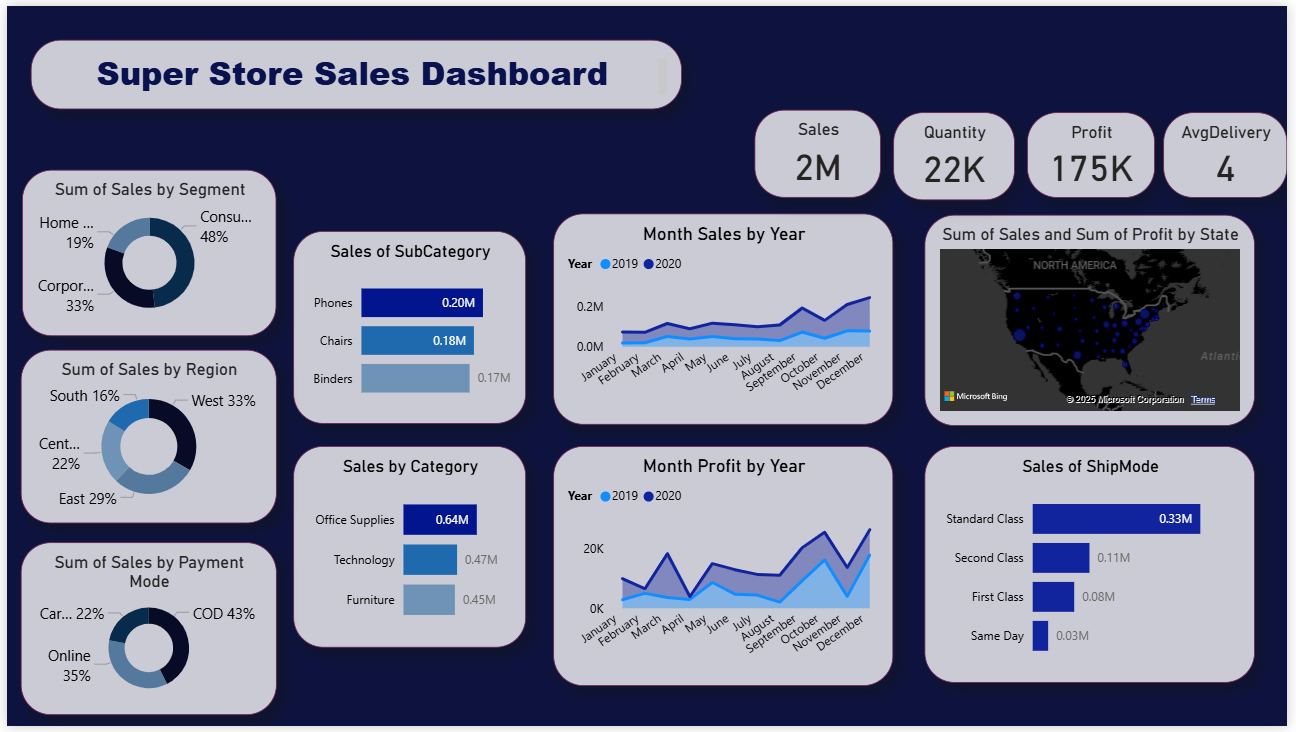

The dashboard page shown, as its layout file describes it:
{"tool":"powerbi","page":{"name":"Page 1","canvas":[1280,720],"ordinal":0},"visuals":[{"type":"clusteredBarChart","title":" Sales by Category","fields":{"Category":["Sheet1.Category"],"Y":["Sum(Sheet1.Sales)"]},"box":[285.9,440.4,232.8,201.5],"z":0},{"type":"clusteredBarChart","title":" Sales of SubCategory","fields":{"Category":["Sheet1.Sub-Category"],"Y":["Sum(Sheet1.Sales)"]},"box":[285.9,225.6,232.8,193],"z":1000},{"type":"clusteredBarChart","title":" Sales of ShipMode","fields":{"Category":["Sheet1.Ship Mode"],"Y":["Sum(Sheet1.Sales)"]},"box":[918.1,440.4,330.6,236.5],"z":2000},{"type":"stackedAreaChart","title":"Month Sales by Year","fields":{"Y":["Sum(Sheet1.Sales)"],"Series":["Sheet1.Order Date.Variation.Date Hierarchy.Year"],"Category":["Sheet1.Order Date.Variation.Date Hierarchy.Month"]},"box":[546.5,207.5,340.2,211.1],"z":3000},{"type":"stackedAreaChart","title":"Month Profit by Year","fields":{"Series":["Sheet1.Order Date.Variation.Date Hierarchy.Year"],"Category":["Sheet1.Order Date.Variation.Date Hierarchy.Month"],"Y":["Sum(Sheet1.Profit)"]},"box":[546.5,440.4,340.2,240.1],"z":4000},{"type":"map","fields":{"Category":["Sheet1.State"],"Size":["Sum(Sheet1.Sales)"]},"box":[918.1,208.7,330.6,211.1],"z":5000},{"type":"donutChart","fields":{"Category":["Sheet1.Segment"],"Y":["Sum(Sheet1.Sales)"]},"box":[14.5,164.1,254.6,166.5],"z":6000},{"type":"donutChart","fields":{"Category":["Sheet1.Payment Mode"],"Y":["Sum(Sheet1.Sales)"]},"box":[13.3,535.7,255.8,172.5],"z":7000},{"type":"card","title":"Sales","fields":{"Values":["Sum(Sheet1.Sales)"]},"box":[748,103.8,126.7,88.1],"z":8000},{"type":"card","title":"Quantity","fields":{"Values":["Sum(Sheet1.Quantity)"]},"box":[886.7,106.2,121.9,88.1],"z":9000},{"type":"card","title":"Profit","fields":{"Values":["Sum(Sheet1.Profit)"]},"box":[1019.4,106.2,127.9,85.7],"z":10000},{"type":"card","title":"AvgDelivery","fields":{"Values":["Avg(Sheet1.AvgDelivery)"]},"box":[1155.8,106.2,124.3,85.7],"z":11000},{"type":"textbox","box":[24.1,33.8,651.5,70],"z":12000},{"type":"donutChart","fields":{"Y":["Sum(Sheet1.Sales)"],"Category":["Sheet1.Region"]},"box":[13.3,343.8,255.8,173.7],"z":14000}]}

Visuals, with their boxes in screenshot pixels (x1, y1, x2, y2), scaled from the page's 1280x720 canvas onto the 1296x732 screenshot:
" Sales by Category" clusteredBarChart: box=[289, 448, 525, 653]
" Sales of SubCategory" clusteredBarChart: box=[289, 229, 525, 426]
" Sales of ShipMode" clusteredBarChart: box=[930, 448, 1264, 688]
"Month Sales by Year" stackedAreaChart: box=[553, 211, 898, 426]
"Month Profit by Year" stackedAreaChart: box=[553, 448, 898, 692]
map - Sheet1.State x Sum(Sheet1.Sales): box=[930, 212, 1264, 427]
donutChart - Sheet1.Segment x Sum(Sheet1.Sales): box=[15, 167, 272, 336]
donutChart - Sheet1.Payment Mode x Sum(Sheet1.Sales): box=[13, 545, 272, 720]
"Sales" card: box=[757, 106, 886, 195]
"Quantity" card: box=[898, 108, 1021, 198]
"Profit" card: box=[1032, 108, 1162, 195]
"AvgDelivery" card: box=[1170, 108, 1295, 195]
textbox: box=[24, 34, 684, 106]
donutChart - Sum(Sheet1.Sales) x Sheet1.Region: box=[13, 350, 272, 526]
